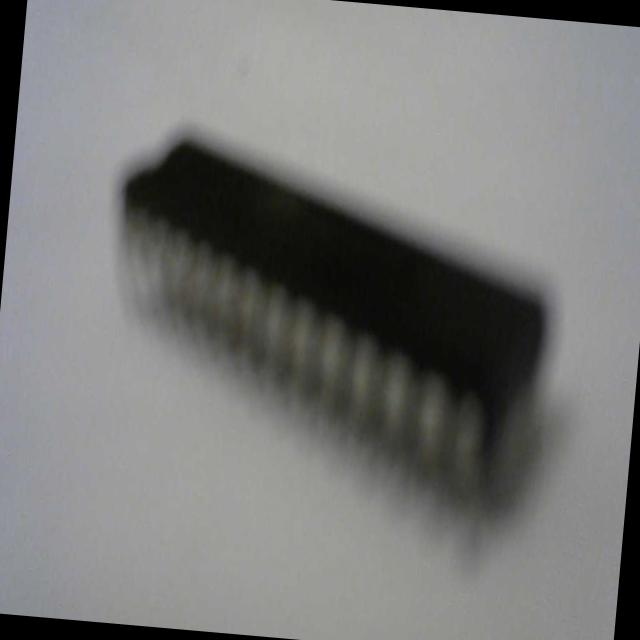atmega: (91, 118, 568, 522)
